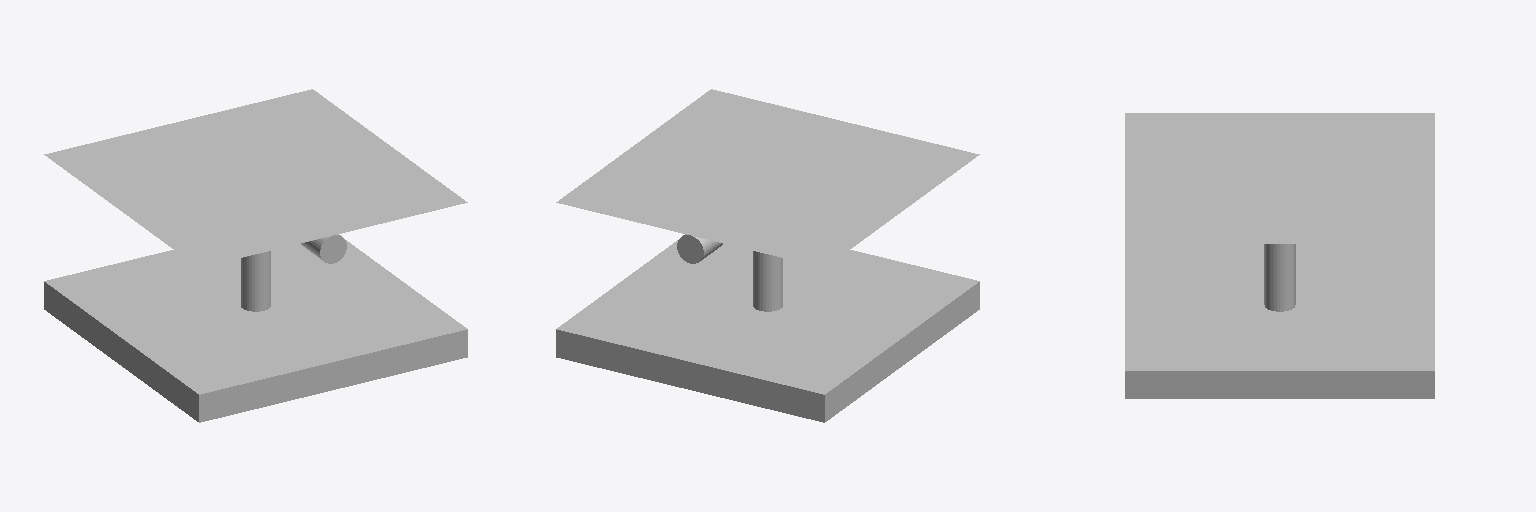
The model's file is solar_90.obj.
3 renders of one model, left to right at view 1: azimuth 30°, elevation 25°; view 2: azimuth 150°, elevation 25°; view 3: azimuth 270°, elevation 25°, orthographic.
Parts seen in each view (by area): view 1: Cube_Cube.001, Plane, Cylinder, Cylinder.001; view 2: Cube_Cube.001, Plane, Cylinder, Cylinder.001; view 3: Cube_Cube.001, Plane, Cylinder.
Boxes of the visible parts, box(x1,y1,x2,y2) form: Cube_Cube.001: box(44, 240, 467, 422); Plane: box(44, 89, 467, 267); Cylinder: box(241, 251, 270, 311); Cylinder.001: box(301, 234, 346, 263); Cube_Cube.001: box(556, 240, 979, 422); Plane: box(556, 89, 979, 267); Cylinder: box(753, 251, 782, 311); Cylinder.001: box(677, 234, 722, 263); Cube_Cube.001: box(1125, 244, 1434, 398); Plane: box(1125, 113, 1434, 243); Cylinder: box(1264, 244, 1295, 311).
Bounding box in the file's own units: 2 × 1.1 × 2.